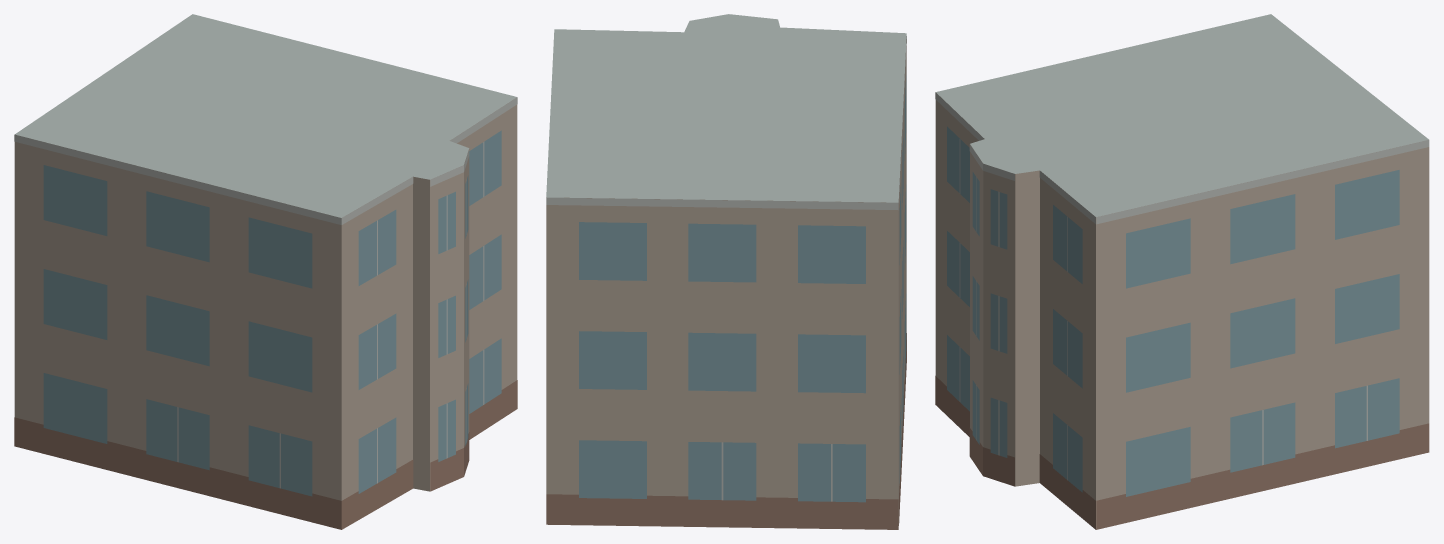
The model's file is survey-upis-33046139.glb.
3 views of the same model, side by side, from view 1: azimuth 30°, elevation 25°; view 2: azimuth 150°, elevation 25°; view 3: azimuth 270°, elevation 25° (orthographic). The views are drawn at different scales.
Visible parts, largest first — view 1: survey-upis-33046139.tmp; view 2: survey-upis-33046139.tmp; view 3: survey-upis-33046139.tmp.
Boxes of the visible parts, box(x1,y1,x2,y2) form: survey-upis-33046139.tmp: box(14, 14, 517, 529); survey-upis-33046139.tmp: box(546, 14, 906, 529); survey-upis-33046139.tmp: box(935, 14, 1429, 529).
Size of the model in its own units: 14.79 by 10.6 by 15.18.
